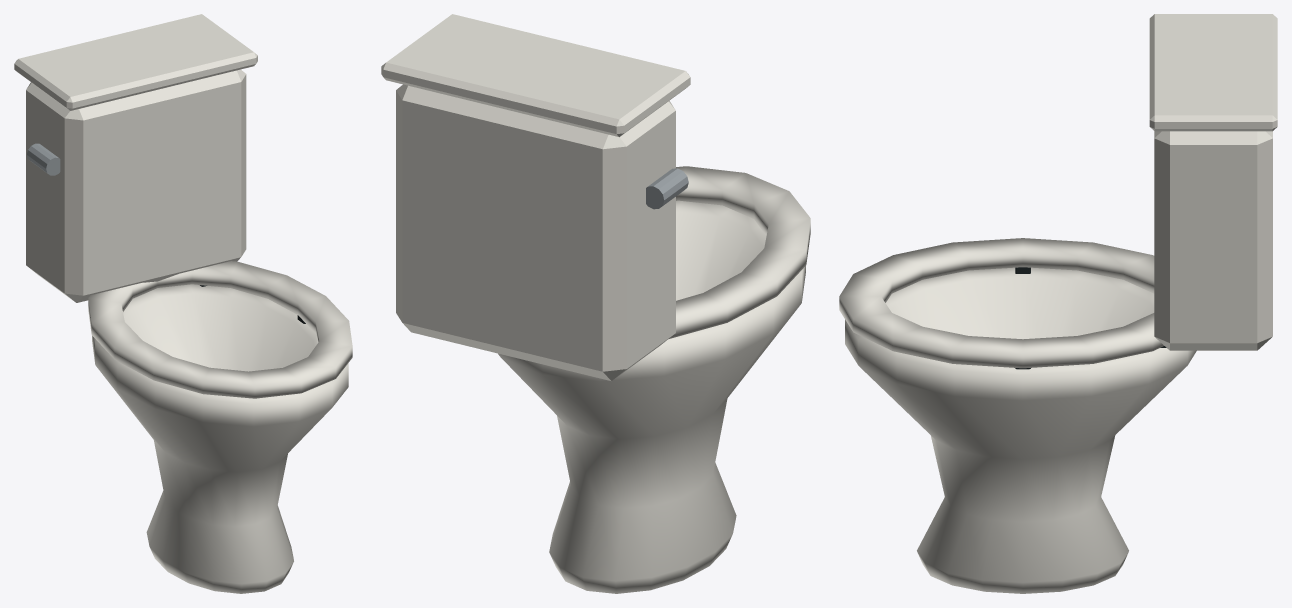
File: restroom_toilet.glb
3 views of the same model, side by side, from view 1: azimuth 30°, elevation 25°; view 2: azimuth 150°, elevation 25°; view 3: azimuth 270°, elevation 25° (orthographic). The views are drawn at different scales.
Visible parts, largest first — view 1: restroom_toilet; view 2: restroom_toilet; view 3: restroom_toilet.
Part boxes in pixels (bbox=[...]): restroom_toilet: bbox=[14, 14, 352, 593]; restroom_toilet: bbox=[381, 14, 810, 593]; restroom_toilet: bbox=[839, 14, 1277, 593].
Size of the model in its own units: 0.442 by 0.883 by 0.7015.
4 materials, 4 textured.
